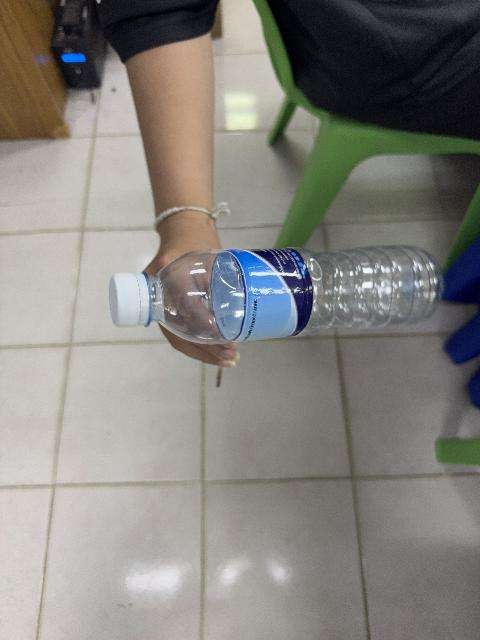bottle: (110, 247, 443, 343)
